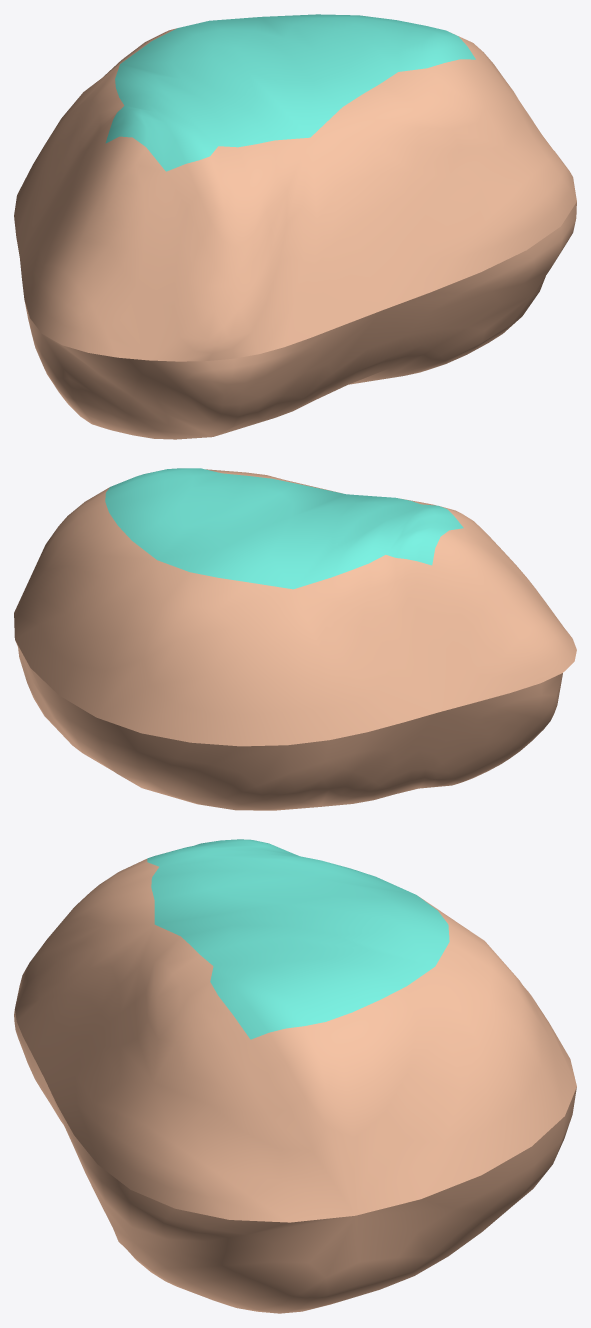
The model's file is background-rock-largef.glb.
3 views of the same model, one above another, from view 1: azimuth 30°, elevation 25°; view 2: azimuth 150°, elevation 25°; view 3: azimuth 270°, elevation 25° (orthographic). The views are drawn at different scales.
Visible parts, largest first — view 1: rock_largeF; view 2: rock_largeF; view 3: rock_largeF.
Boxes of the visible parts, bbox=[...] form: rock_largeF: bbox=[14, 14, 576, 439]; rock_largeF: bbox=[14, 468, 576, 810]; rock_largeF: bbox=[14, 839, 576, 1313].
Size of the model in its own units: 0.9728 by 0.4729 by 0.8085.
